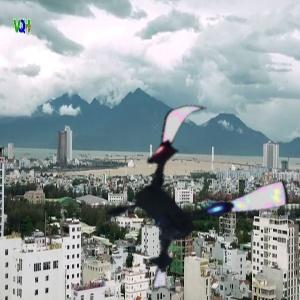drone: (92, 96, 288, 292)
